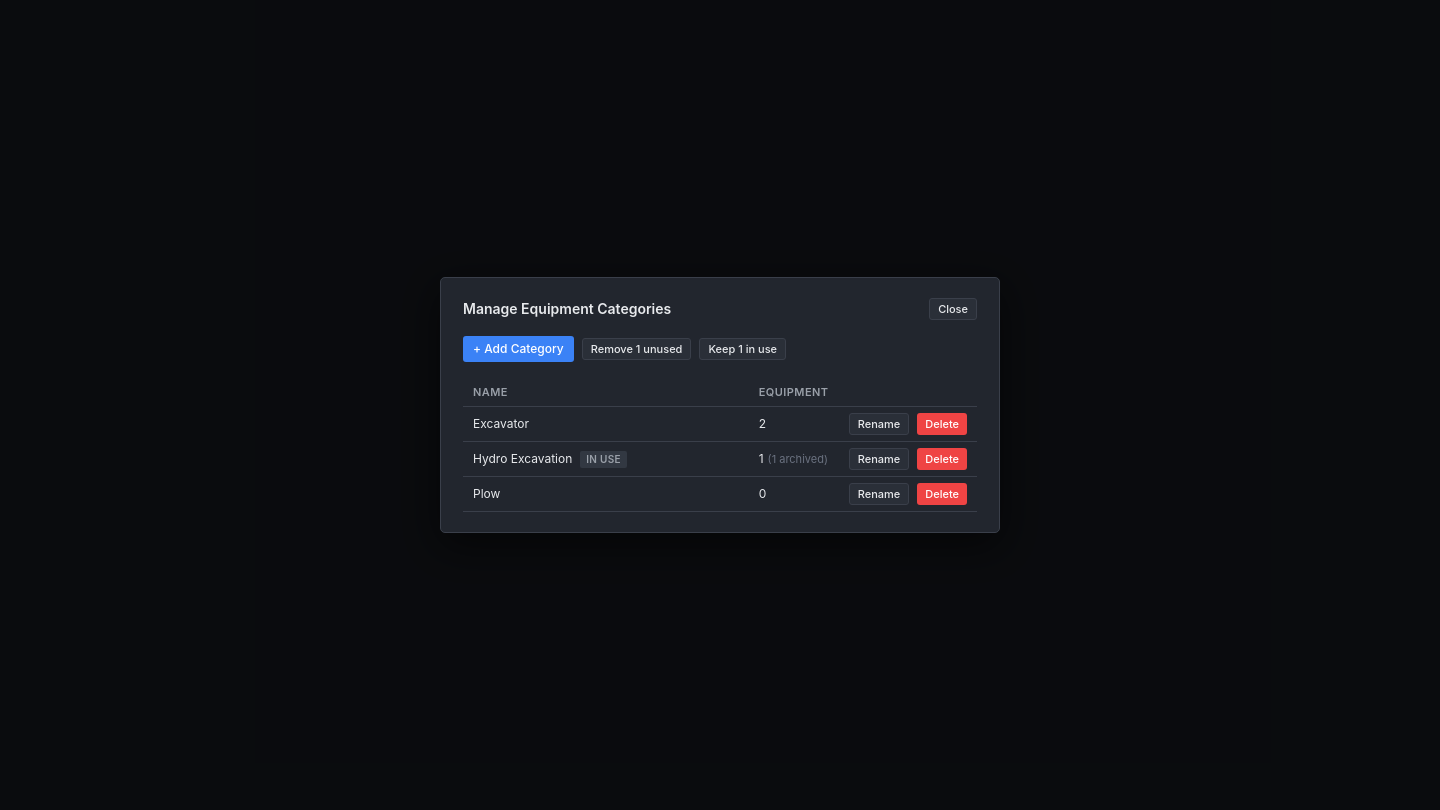
Test: deleting a category › reloads and drops the dialog when the count moved underneath it
What coordinates should you click on to do the following:
click the button "Delete" in the row of "Plow"
I would click on:
 (942, 494)
Its box is [917, 483, 967, 505].
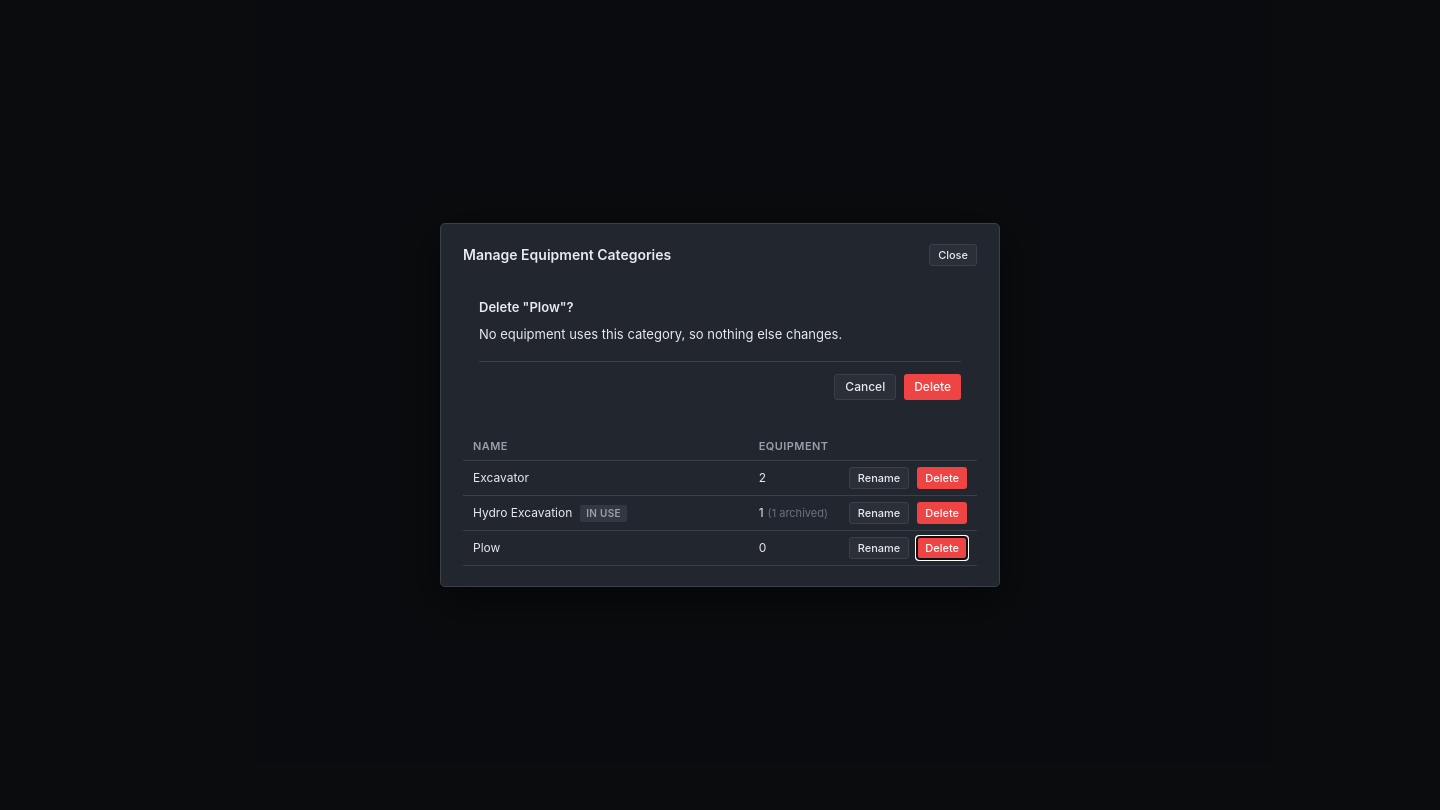
What coordinates should you click on to do the following:
click the 1st button "Delete"
I would click on:
 (933, 387)
Its box is [904, 374, 961, 400].
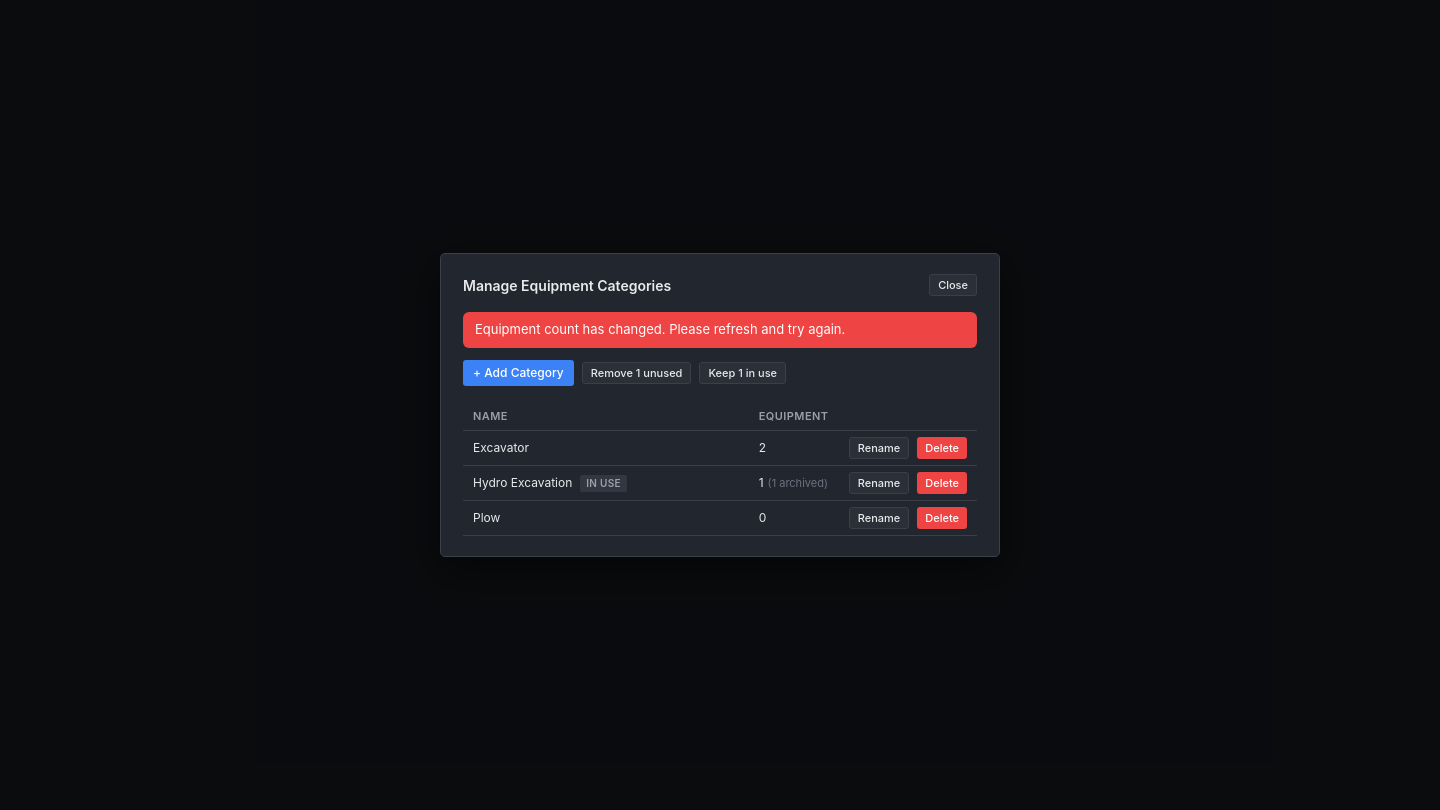
Now the text "Equipment count has changed. Please refresh and try again." is shown, box [463, 312, 977, 348]
Now the text "No equipment uses this category" is gone
